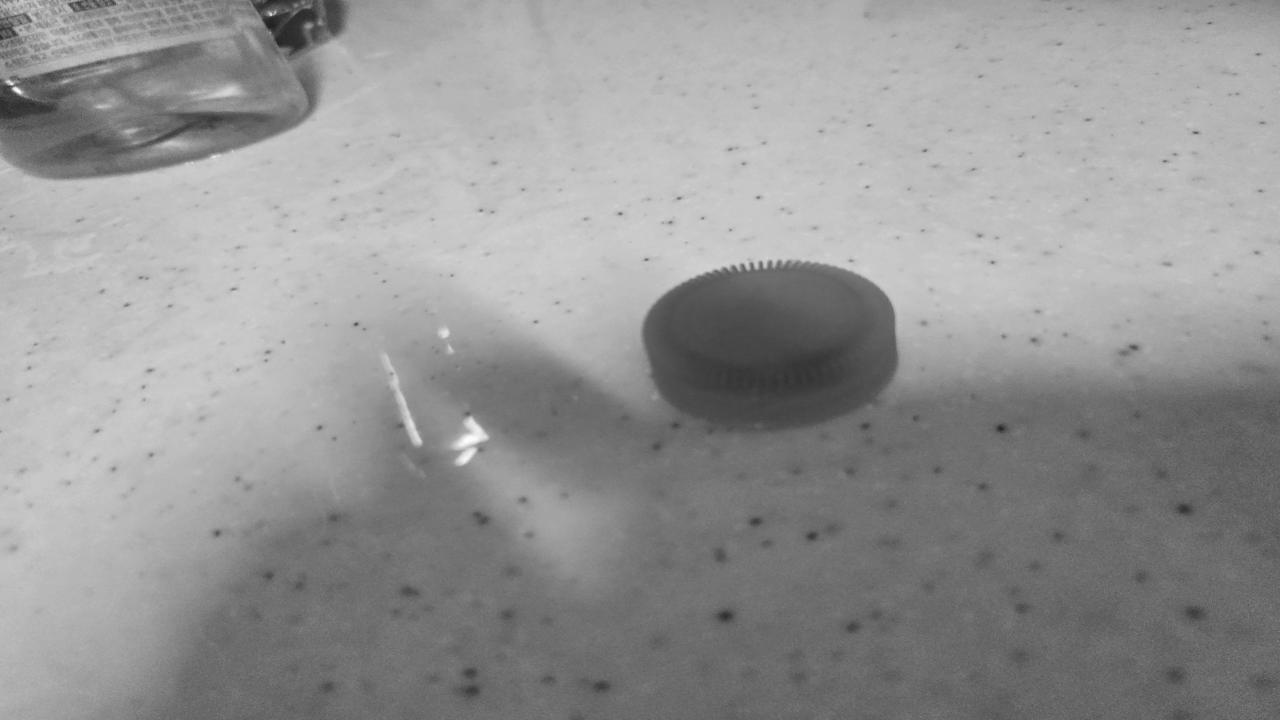bottle_cap: (637, 258, 903, 429)
